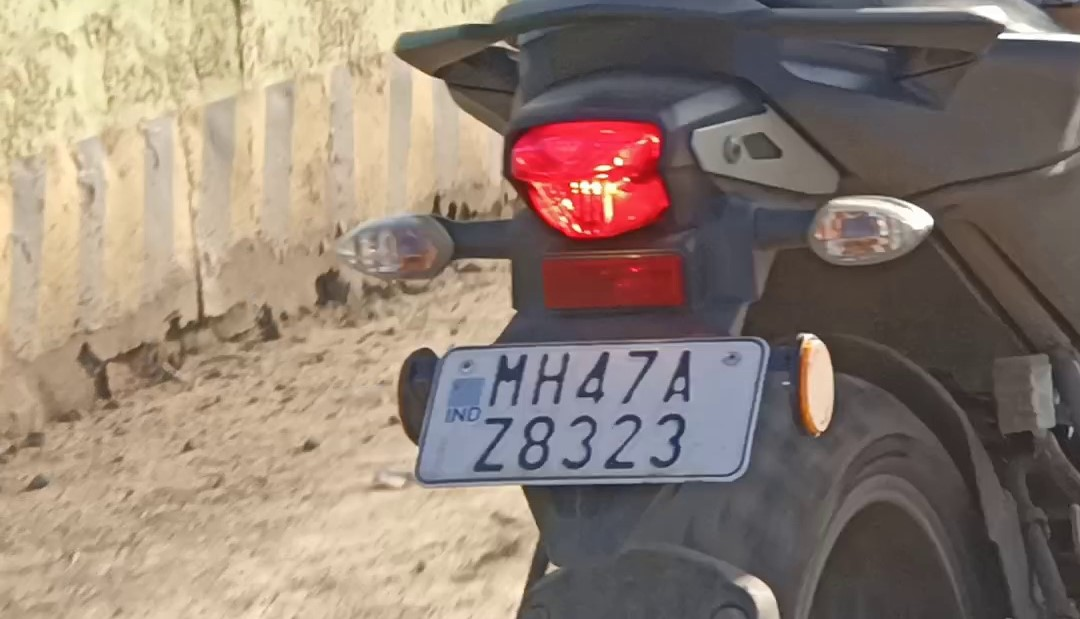MH47AZ8323: (416, 344, 763, 481)
